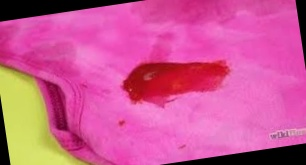lipstick: (116, 48, 238, 113), (117, 116, 128, 126), (175, 142, 187, 150)
